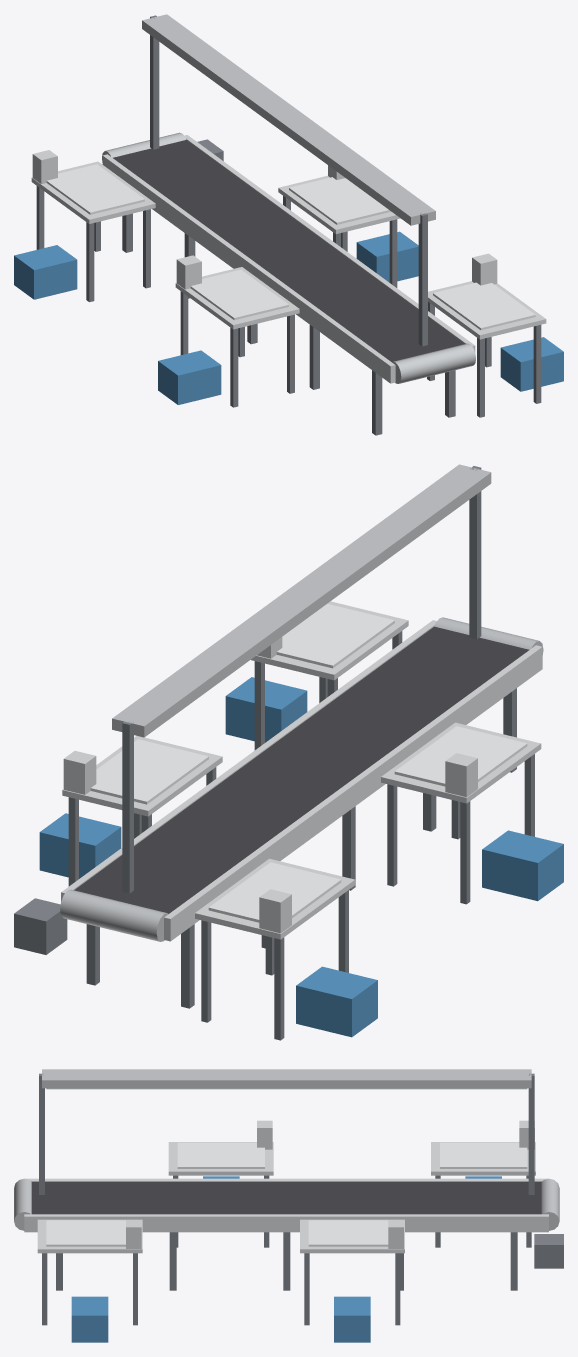
The model's file is SM_DEBONING_LINE.fbx.
3 renders of one model, top to bottom at view 1: azimuth 30°, elevation 25°; view 2: azimuth 150°, elevation 25°; view 3: azimuth 270°, elevation 25°, orthographic. The views are drawn at different scales.
Parts seen in each view (by area): view 1: SM_DEBONING_LINE; view 2: SM_DEBONING_LINE; view 3: SM_DEBONING_LINE.
Part boxes in pixels (<box>): SM_DEBONING_LINE: <box>14,14,563,435</box>; SM_DEBONING_LINE: <box>14,464,563,1040</box>; SM_DEBONING_LINE: <box>14,1069,563,1342</box>.
Size of the model in its own units: 378 by 250 by 629.
